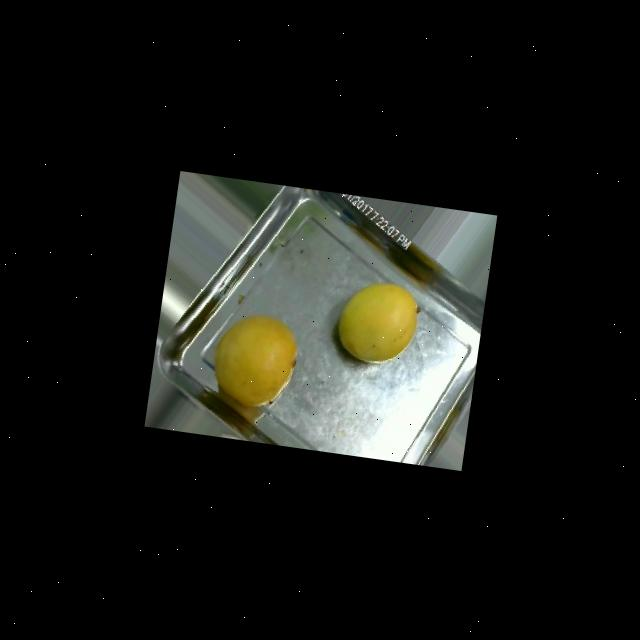Mango: (208, 308, 302, 412), (333, 275, 423, 367)
